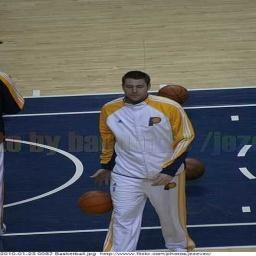ball: (79, 187, 113, 215), (160, 83, 190, 102), (182, 158, 203, 178)
human: (90, 69, 196, 252)
